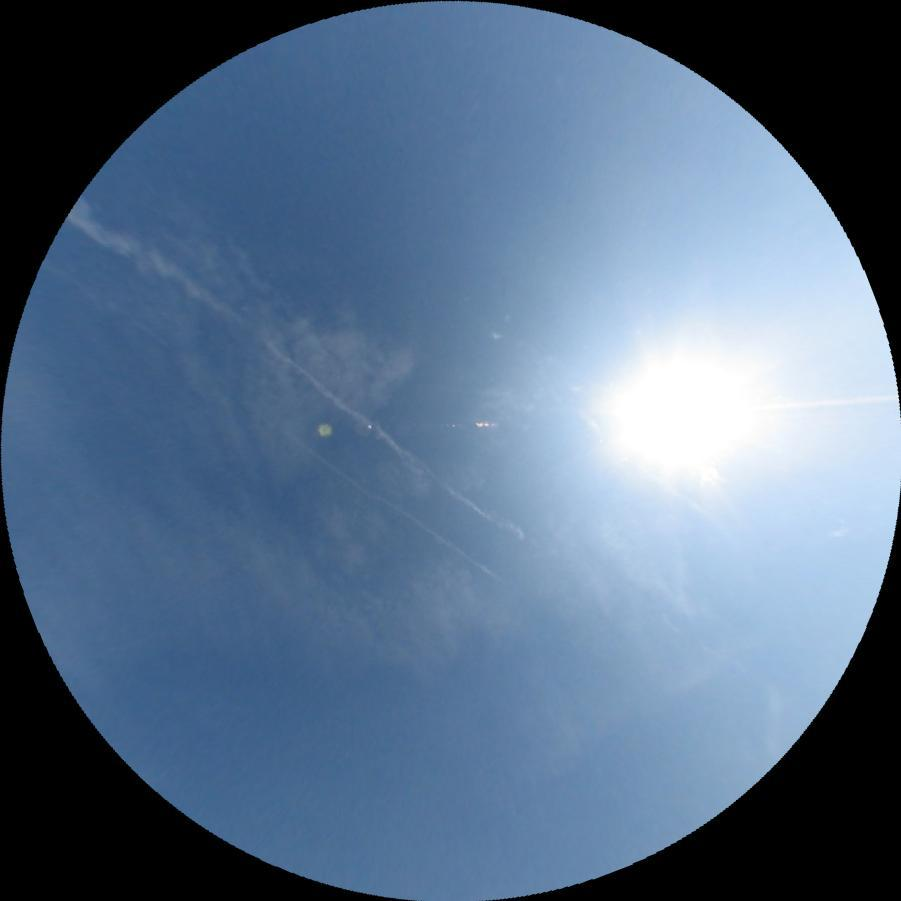contrail old: (249, 410, 498, 580), (624, 460, 722, 529)
contrail veryold: (64, 196, 536, 544)
parasite: (750, 389, 896, 408)
sun: (598, 325, 770, 497)
